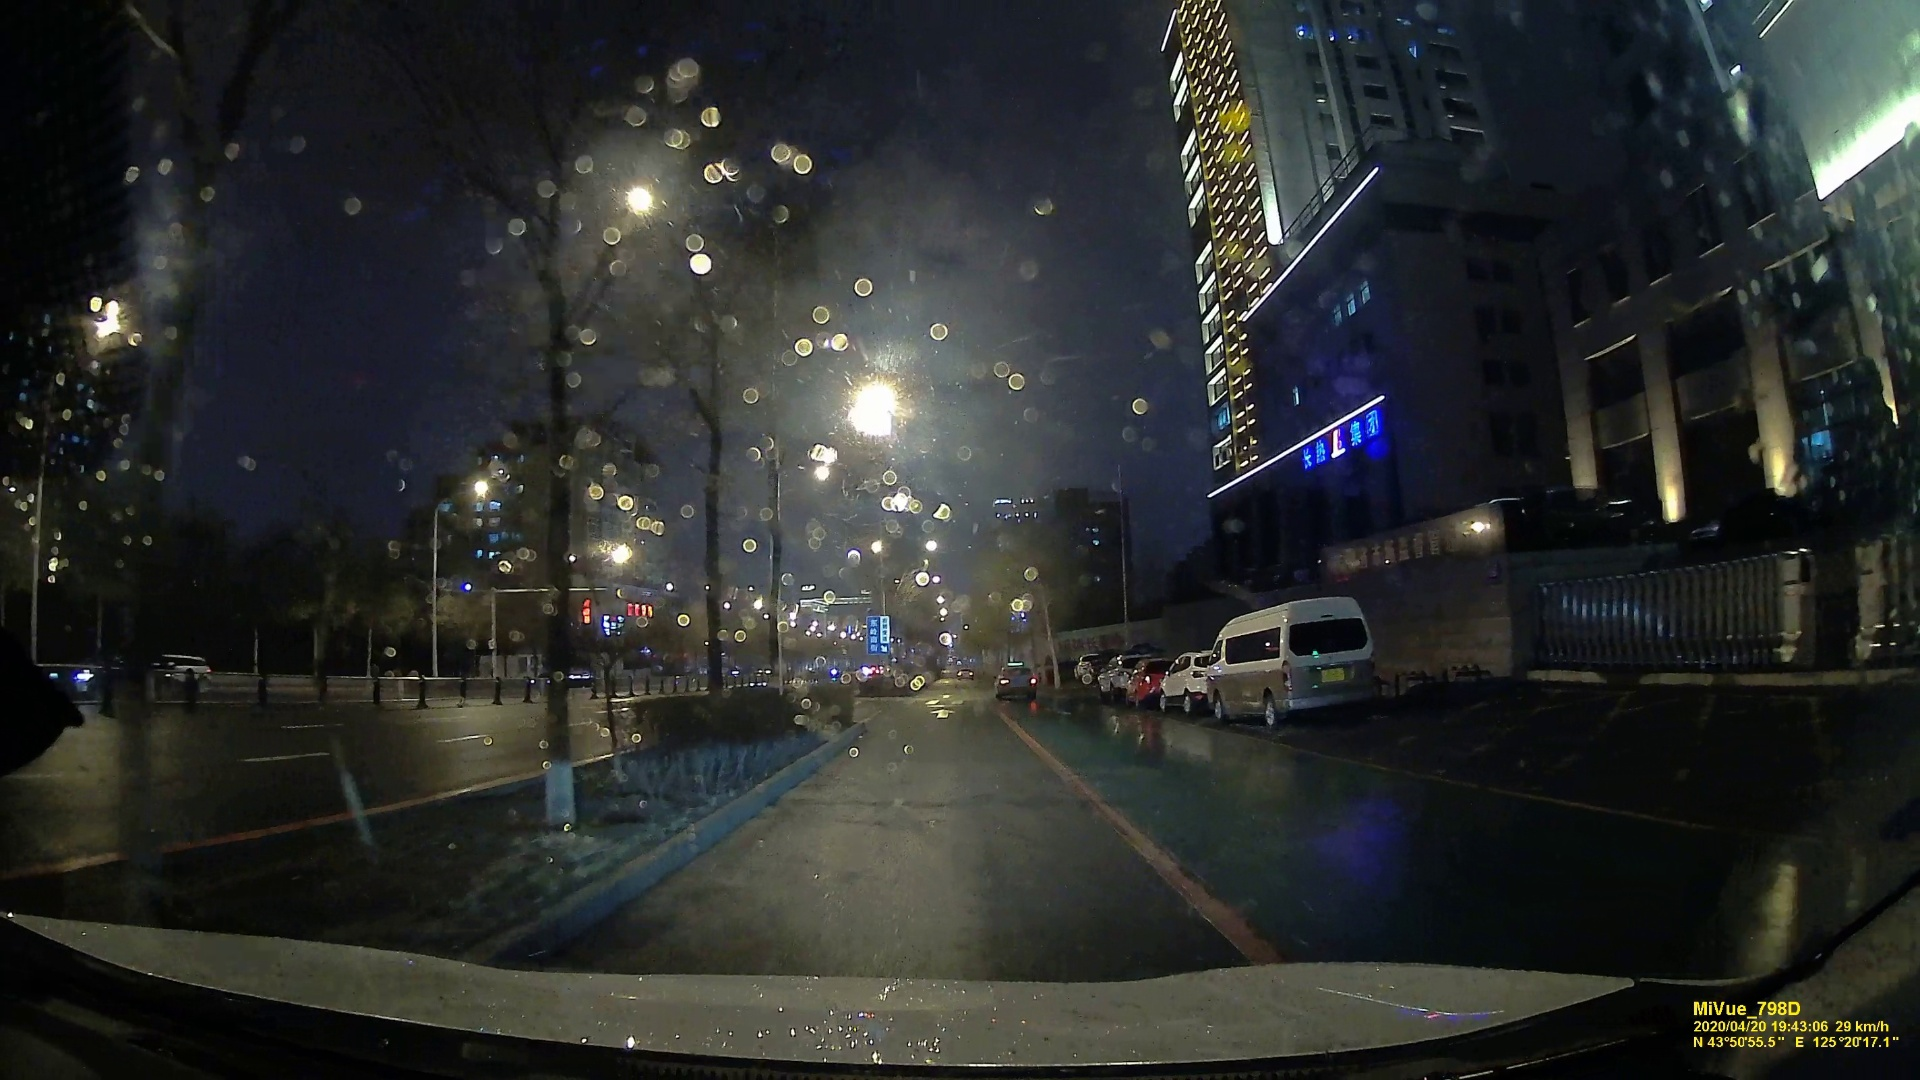minibus: (1207, 593, 1382, 731)
vehicle: (993, 663, 1040, 700)
